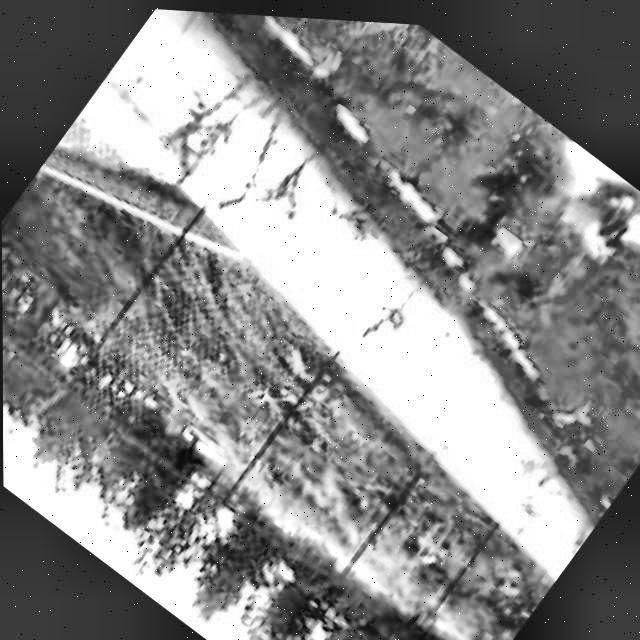Fire: (495, 147, 640, 341)
